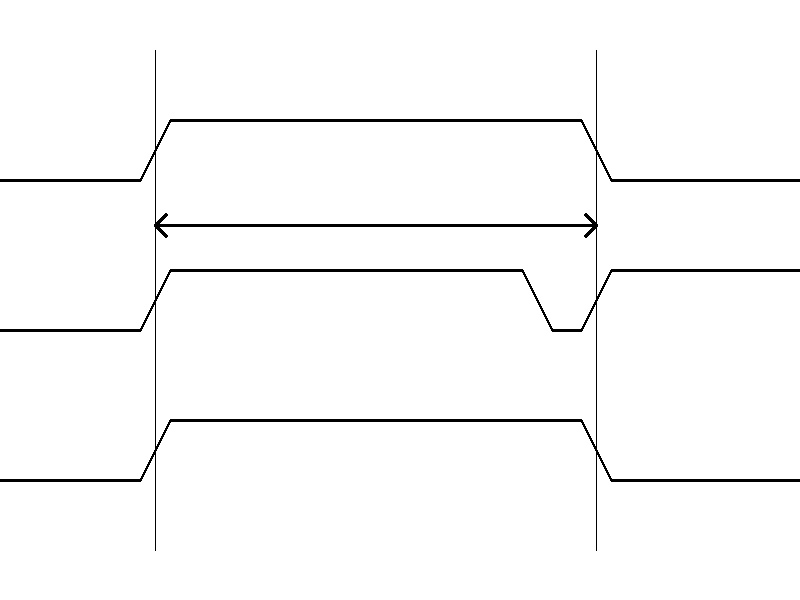double_arrow: (155, 210, 596, 240)
